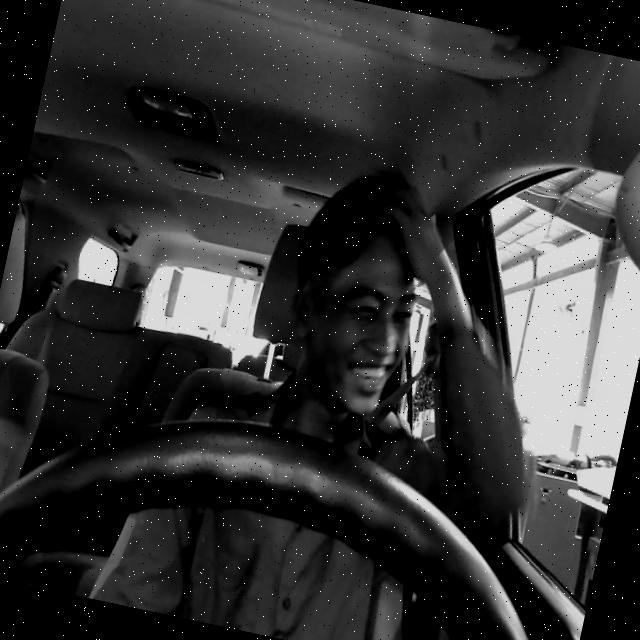focused: (267, 205, 433, 424)
